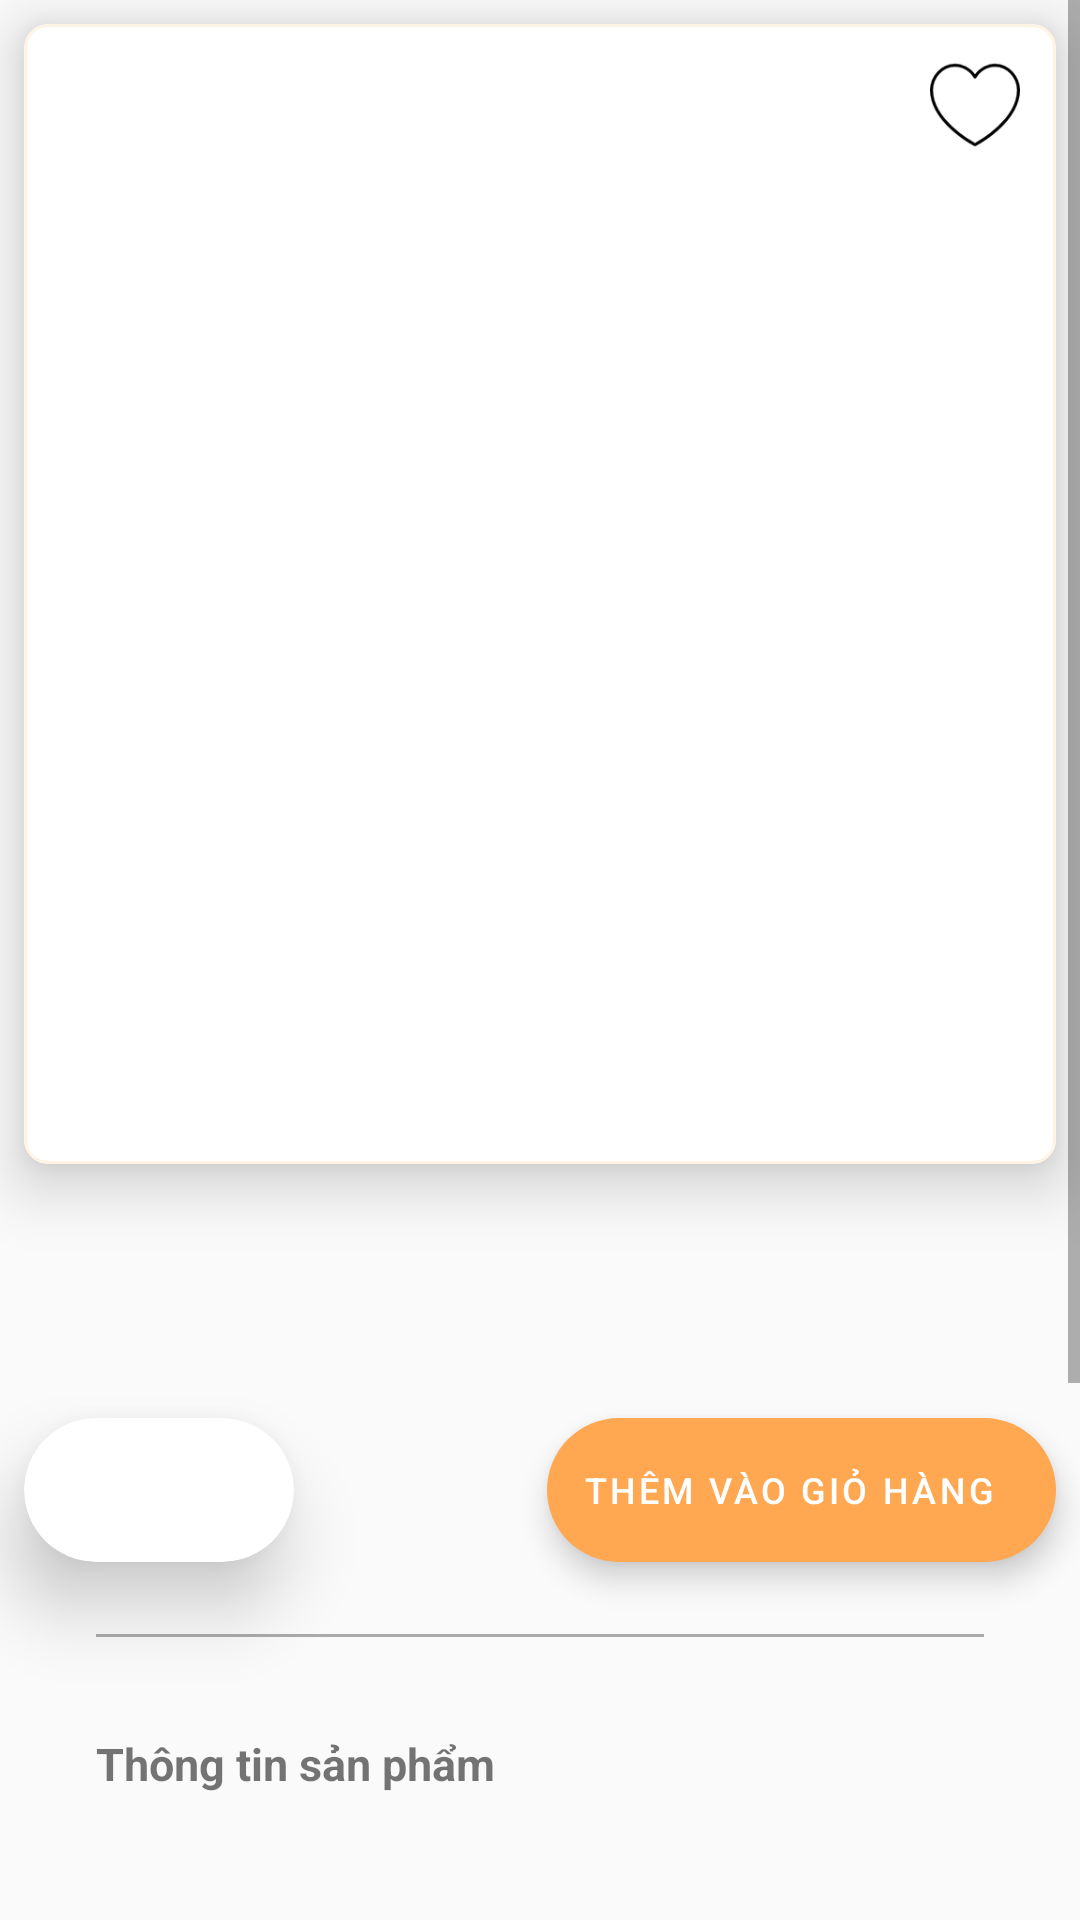

Locate icon controls on the screen. Image size 1080x1920, boxes as rect(x1, y1, x2, y2).
timden: rect(930, 63, 1020, 147)
